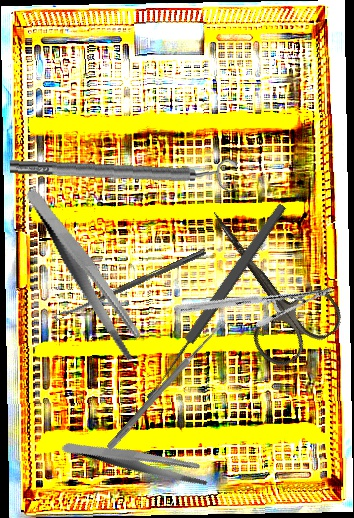Dressing Forceps: (24, 171, 148, 376), (60, 405, 214, 517)
Fixation Ring: (9, 147, 238, 195)
Iris Scissors: (178, 185, 349, 374)
Needle Holder: (173, 225, 335, 375)
Surgical Spoon: (142, 201, 289, 403), (106, 318, 227, 452), (53, 247, 207, 322)
